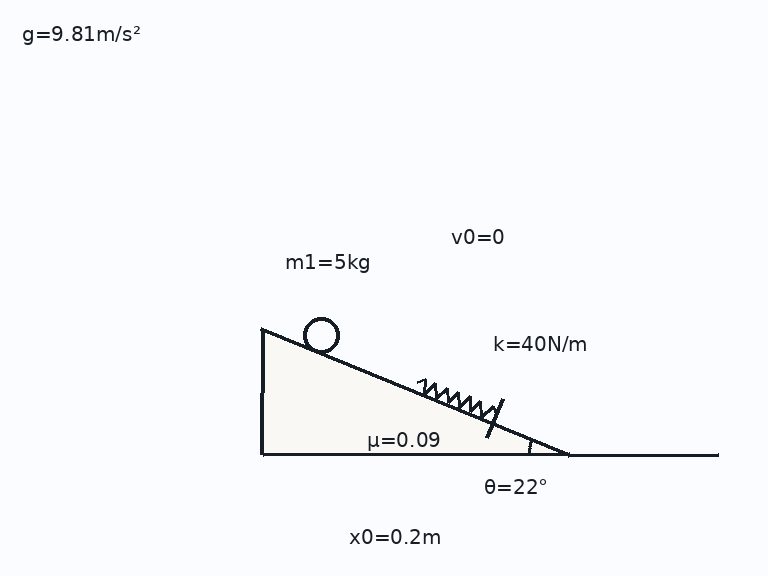ball: (301, 315, 341, 354)
ramp: (260, 328, 571, 456)
spring: (414, 376, 498, 419)
